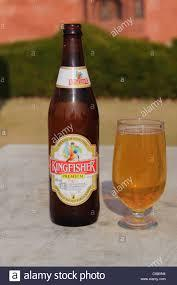Glass bottle: (32, 19, 106, 231)
